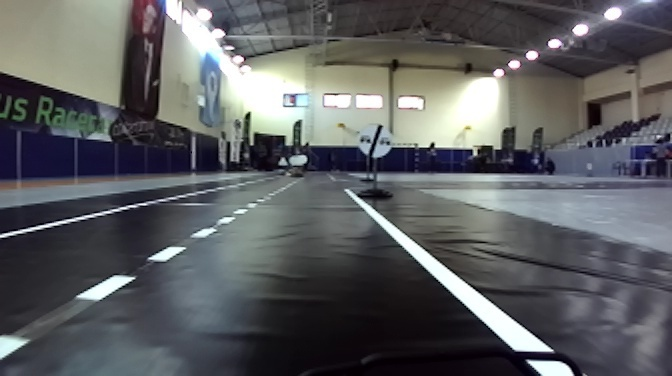sollama_serbest: (356, 125, 393, 160)
